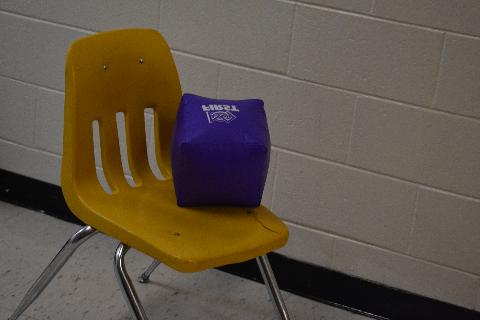cube: (168, 92, 271, 208)
